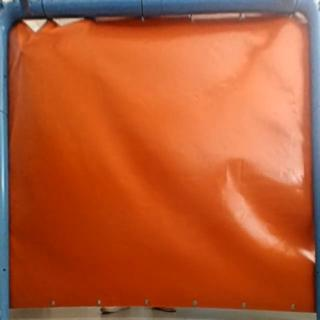Hit-hRxx: (15, 45, 30, 60)
